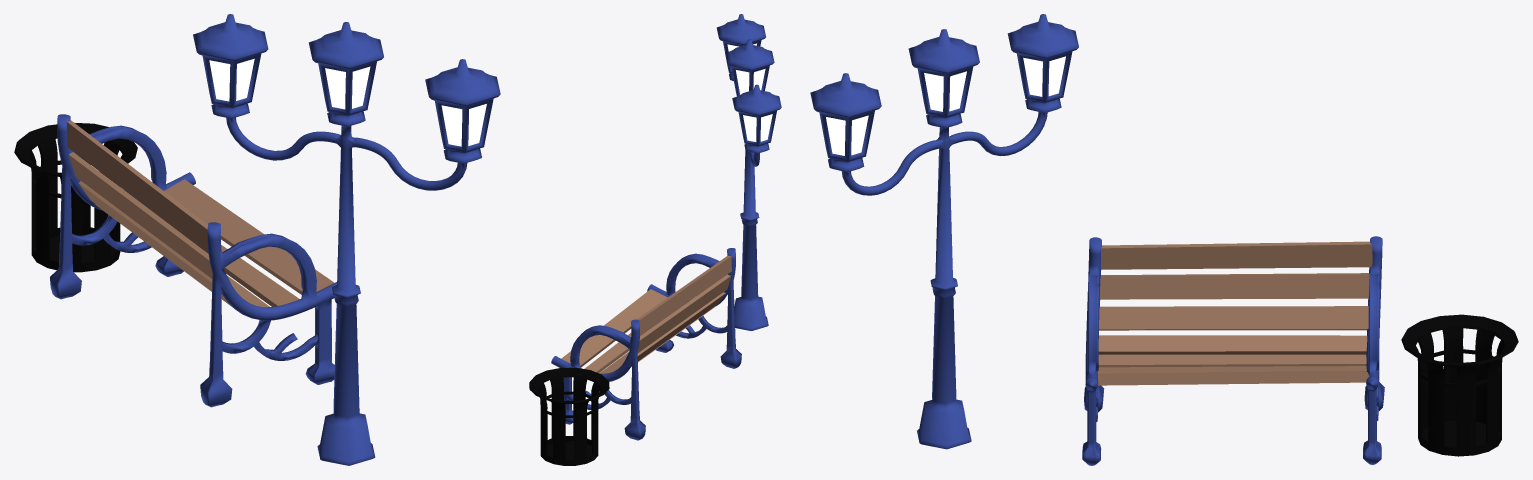
The model's file is park_bench.glb.
3 renders of one model, left to right at view 1: azimuth 30°, elevation 25°; view 2: azimuth 150°, elevation 25°; view 3: azimuth 270°, elevation 25°, orthographic. The views are drawn at different scales.
Visible parts, largest first — view 1: Cube, BézierCurve.006, Circle.001; view 2: Cube, BézierCurve.006, Circle.001; view 3: Cube, BézierCurve.006, Circle.001.
Part boxes in pixels (<box>): Cube: <box>50,114,336,407</box>; BézierCurve.006: <box>193,14,500,465</box>; Circle.001: <box>14,123,137,272</box>; Cube: <box>551,248,741,440</box>; BézierCurve.006: <box>716,14,781,330</box>; Circle.001: <box>529,367,609,465</box>; Cube: <box>1082,236,1384,465</box>; BézierCurve.006: <box>810,14,1078,449</box>; Circle.001: <box>1401,314,1518,456</box>.
Size of the model in its own units: 5.18 by 10.67 by 16.82.
